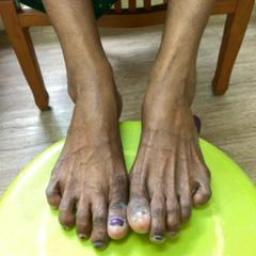Dorsal View -Both Feet-: (29, 39, 224, 252)
